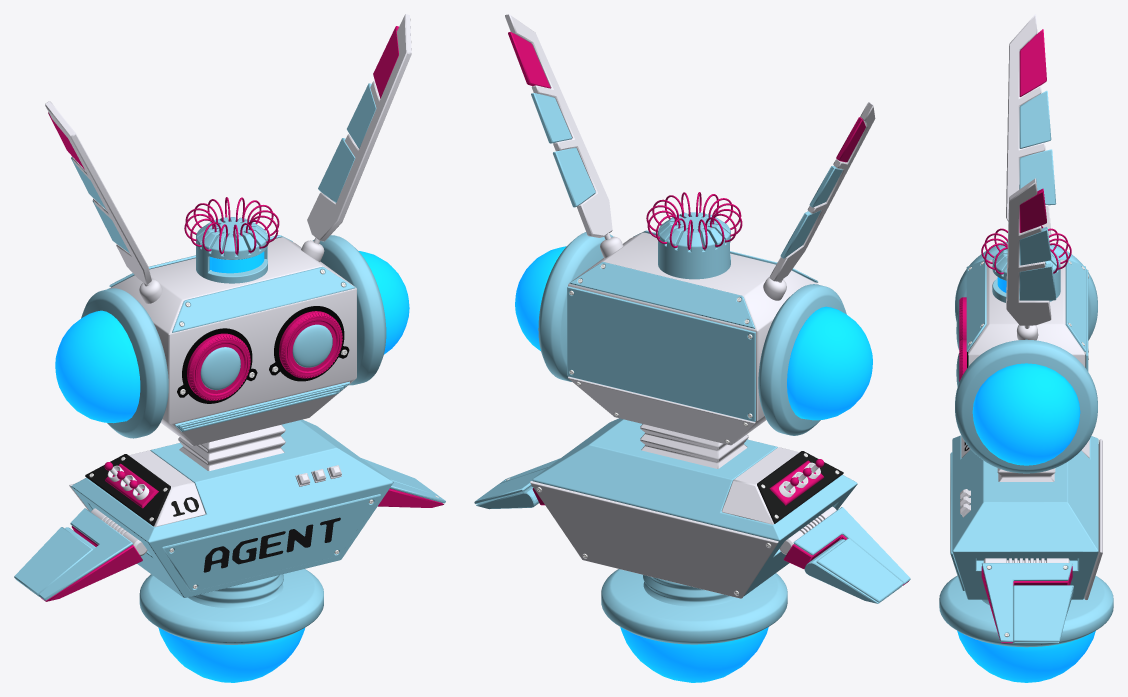
File: bee_bot3_silver.glb
3 renders of one model, left to right at view 1: azimuth 30°, elevation 25°; view 2: azimuth 150°, elevation 25°; view 3: azimuth 270°, elevation 25°, orthographic. The views are drawn at different scales.
Visible parts, largest first — view 1: Cube.049; view 2: Cube.049; view 3: Cube.049.
Boxes of the visible parts, x1=… form: Cube.049: x1=14, y1=14, x2=445, y2=682; Cube.049: x1=474, y1=14, x2=910, y2=682; Cube.049: x1=939, y1=14, x2=1113, y2=682.
Bounding box in the file's own units: 0.6986 × 1.02 × 0.278.
